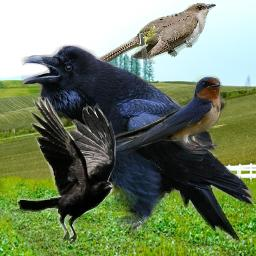Crow: (21, 44, 254, 246), (17, 97, 117, 248)
Cuckoo: (88, 2, 216, 70)
Swallow: (91, 75, 227, 154)
